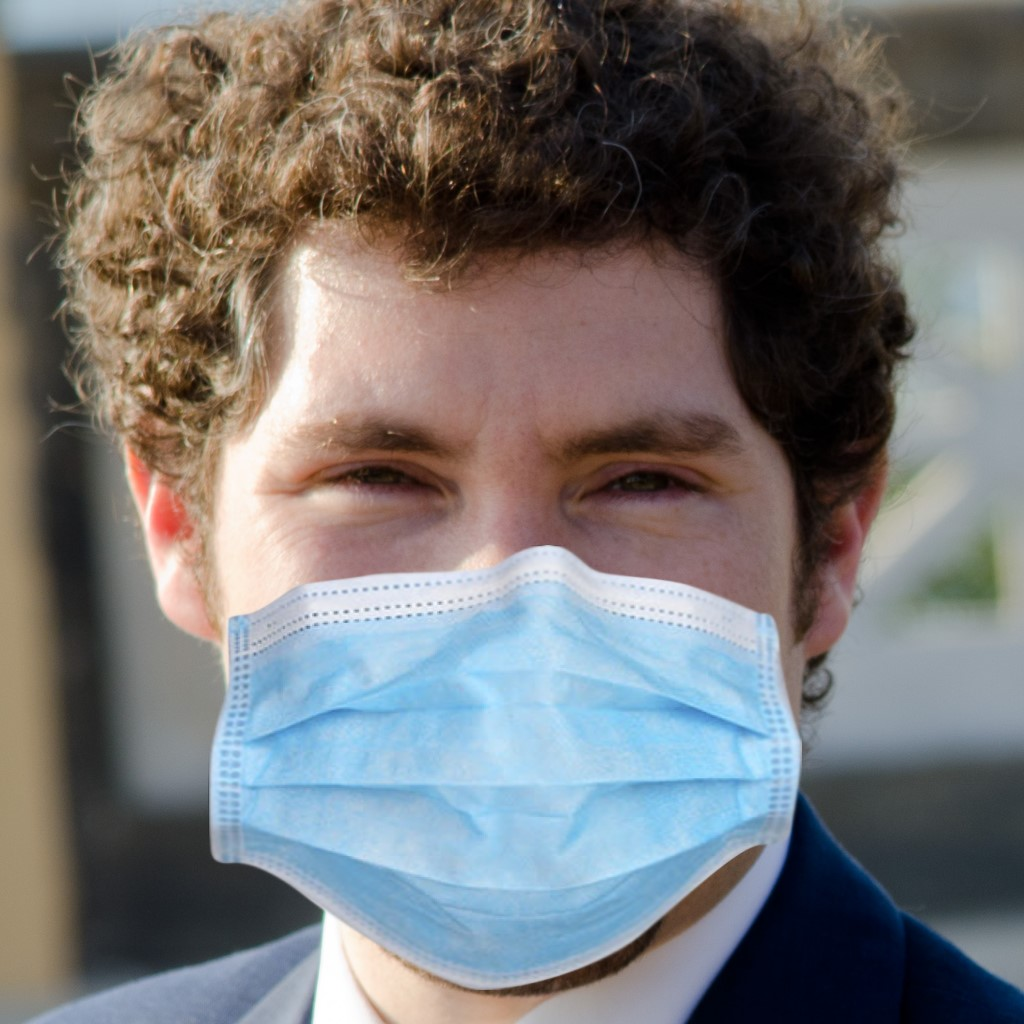con_mascara: (161, 135, 853, 952)
